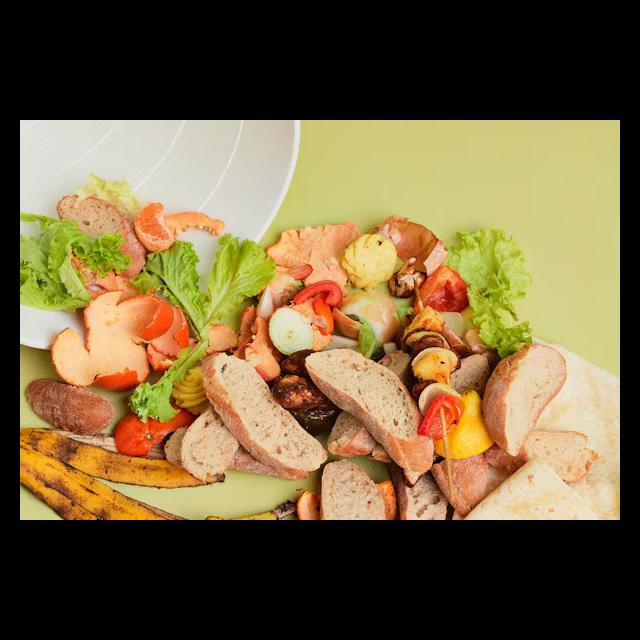food_waste: (20, 424, 233, 519), (51, 280, 198, 373), (443, 216, 538, 349), (318, 346, 411, 477), (202, 340, 294, 470), (478, 312, 564, 448), (152, 239, 260, 346), (20, 368, 128, 439), (262, 215, 365, 284), (52, 192, 130, 274), (470, 464, 578, 520), (475, 343, 550, 420), (313, 469, 395, 520), (338, 216, 391, 293), (385, 204, 435, 268), (265, 290, 313, 351), (132, 195, 172, 254)
